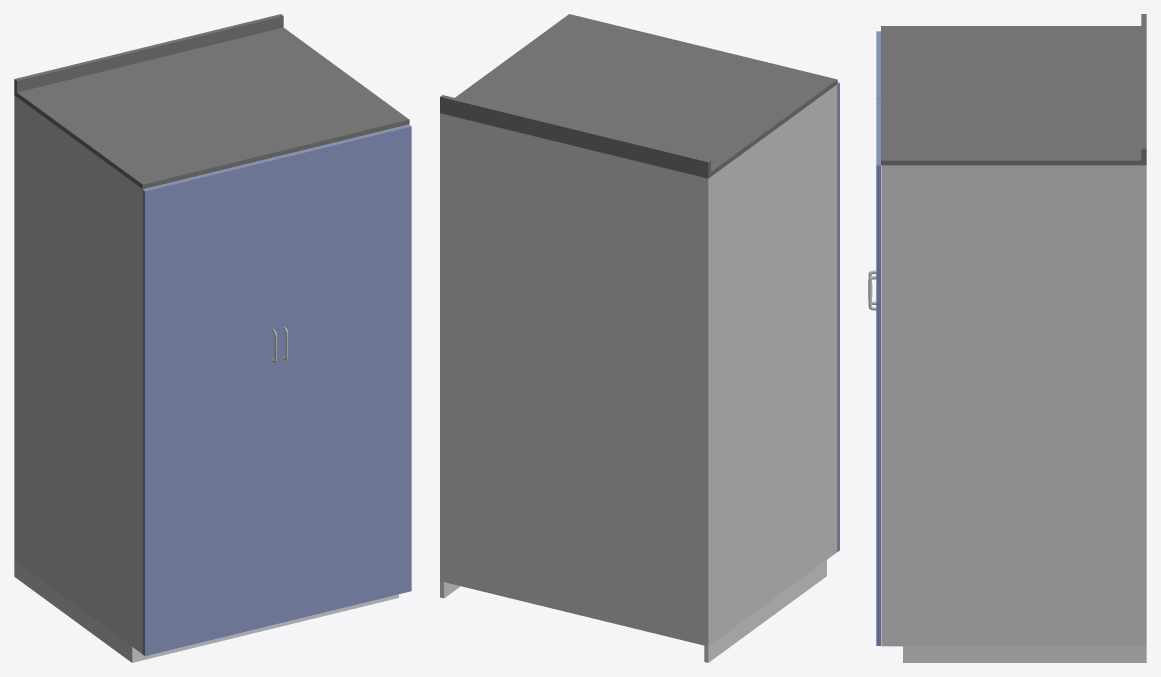
File: closet.fbx
3 renders of one model, left to right at view 1: azimuth 30°, elevation 25°; view 2: azimuth 150°, elevation 25°; view 3: azimuth 270°, elevation 25°, orthographic. The views are drawn at different scales.
Parts seen in each view (by area): view 1: Cabinet1_Door, Cabinet2_Door, Cabinet1, Countertop1, Countertop2, Baseboard1; view 2: Cabinet1, Cabinet2, Countertop1, Countertop2, Baseboard1, Cabinet1_Door; view 3: Cabinet2, Countertop2, Countertop1, Baseboard2, Cabinet2_Door.
Part boxes in pixels (x1,y1,x2,y2): Cabinet1_Door: (142,157,278,655); Cabinet2_Door: (276,125,411,623); Cabinet1: (14,95,275,653); Countertop1: (14,46,276,189); Countertop2: (148,14,409,156); Baseboard1: (14,560,265,662); Cabinet1: (574,84,837,646); Cabinet2: (440,113,574,613); Countertop1: (574,46,837,178); Countertop2: (440,14,702,145); Baseboard1: (704,560,826,662); Cabinet1_Door: (837,82,839,551); Cabinet2: (881,165,1146,646); Countertop2: (881,81,1146,165); Countertop1: (881,14,1146,93); Baseboard2: (903,646,1146,662); Cabinet2_Door: (876,98,880,645).
Bounding box in the file's own units: 120 × 214 × 105.
